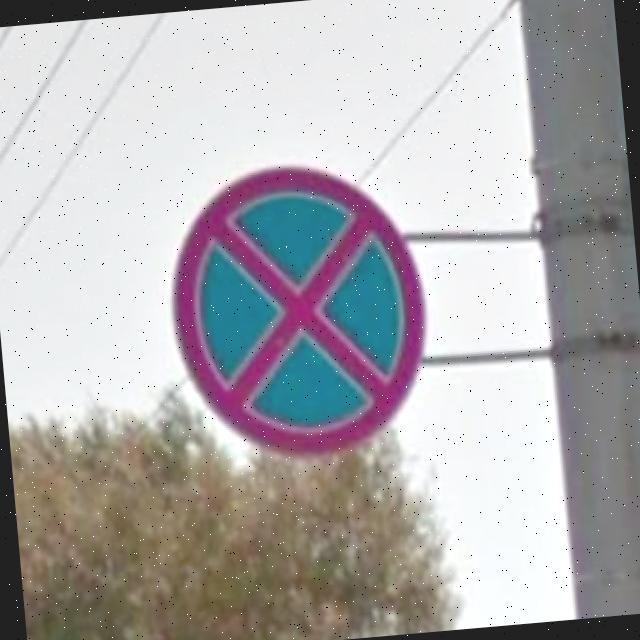Zakaz zatrzymywania sie: (159, 151, 438, 470)
